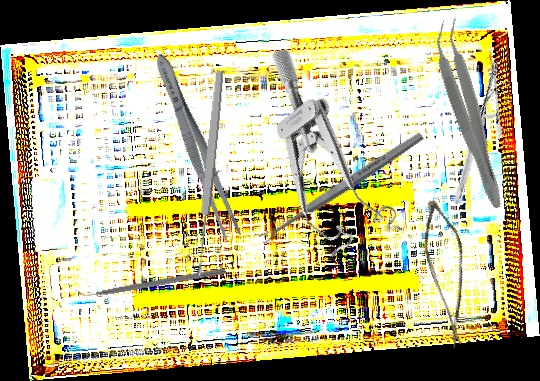Chopper: (73, 259, 227, 301)
Dressing Forceps: (147, 49, 246, 244)
Micro Scissor: (401, 196, 497, 351)
Needle Holder: (423, 60, 530, 205)
Speculum: (210, 44, 419, 276)
Surgical Spoon: (257, 130, 426, 245), (192, 69, 226, 277)
Tissue Forceps: (425, 16, 516, 212)
